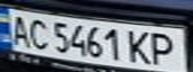1: (103, 25, 124, 62)
4: (66, 22, 87, 56)
5: (48, 19, 72, 54)
6: (84, 25, 106, 60)
A: (3, 11, 33, 47)
C: (24, 16, 51, 51)
K: (124, 28, 154, 65)
P: (145, 29, 184, 68)
